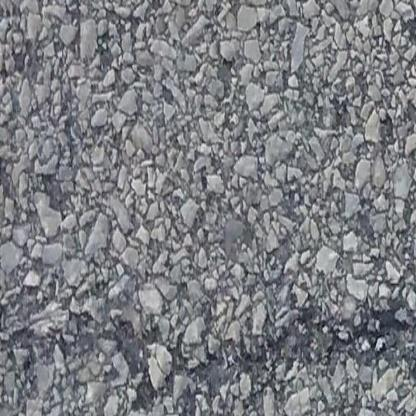Cracks: (99, 312, 416, 416)
